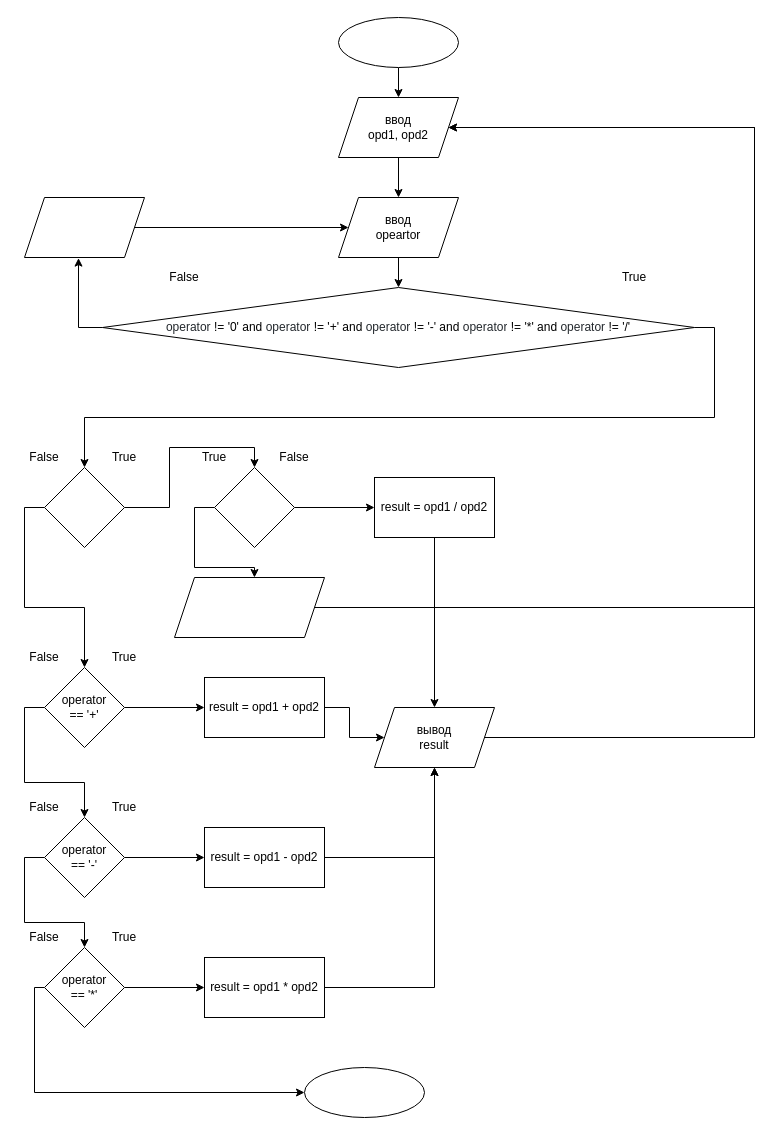
Some shapes in this 780 by 1135 pixel diagram are drawn without their labels. The shapes that lost their labels are listed below. From the top down, each one's centre as x and y in pixels, then its label:
the point at 398,42: начало
the point at 84,227: вывод невалидный оператор
the point at 84,507: operator == '/'
the point at 254,507: opd2 == 0
the point at 249,607: вывод на 0 делить нельзя
the point at 364,1092: конец
